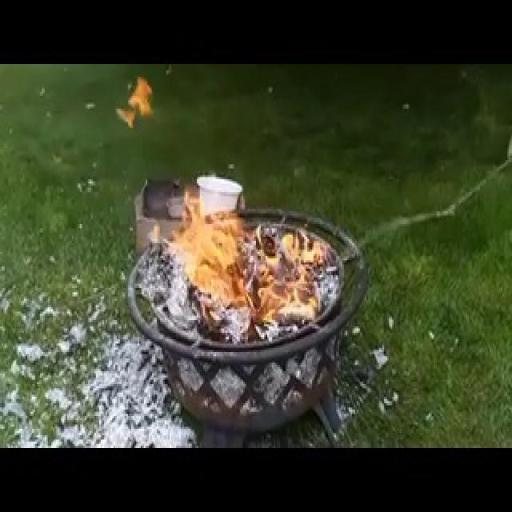smoke: (148, 96, 335, 337)
